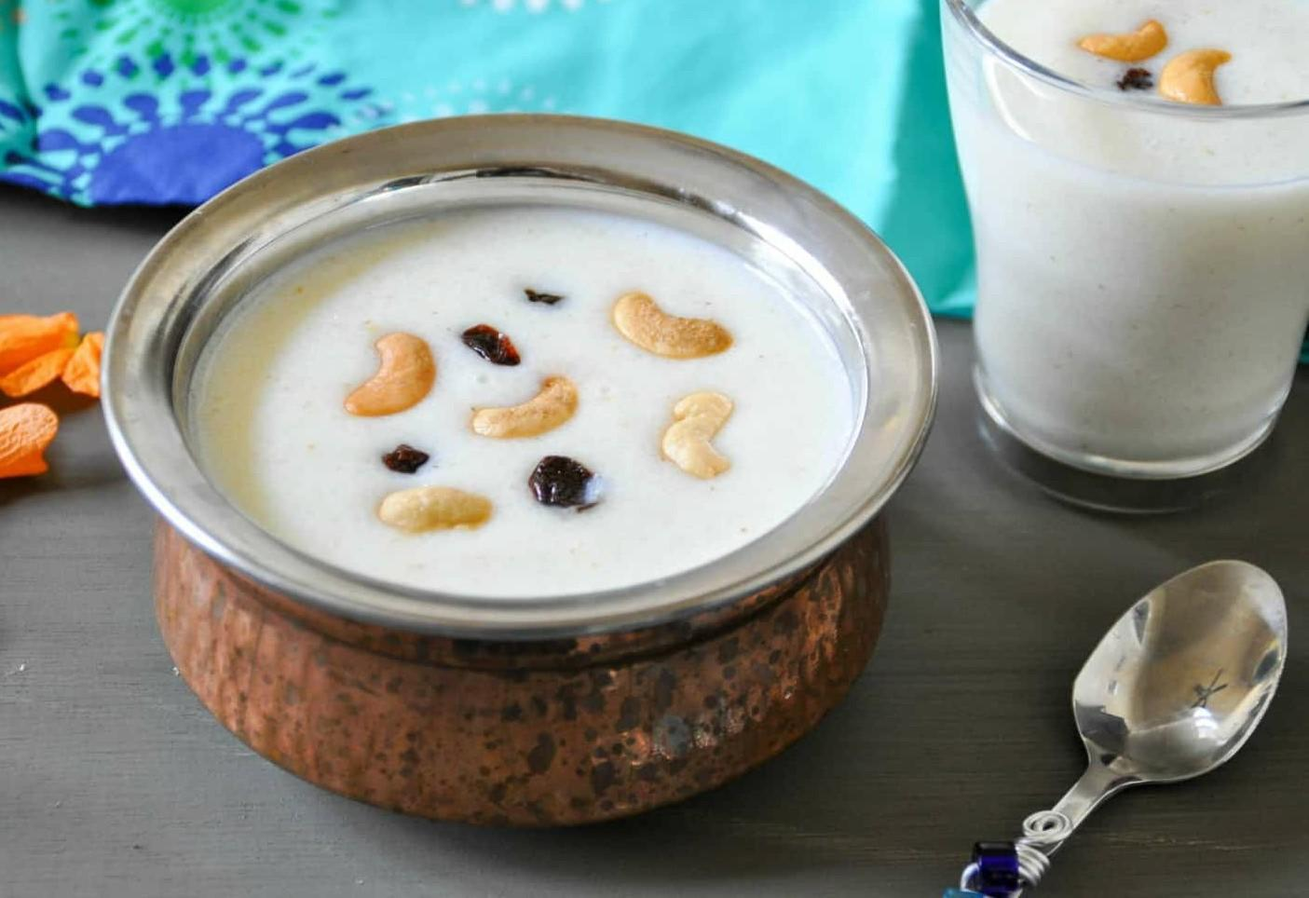Kheer: (181, 207, 854, 599), (948, 0, 1309, 456)
